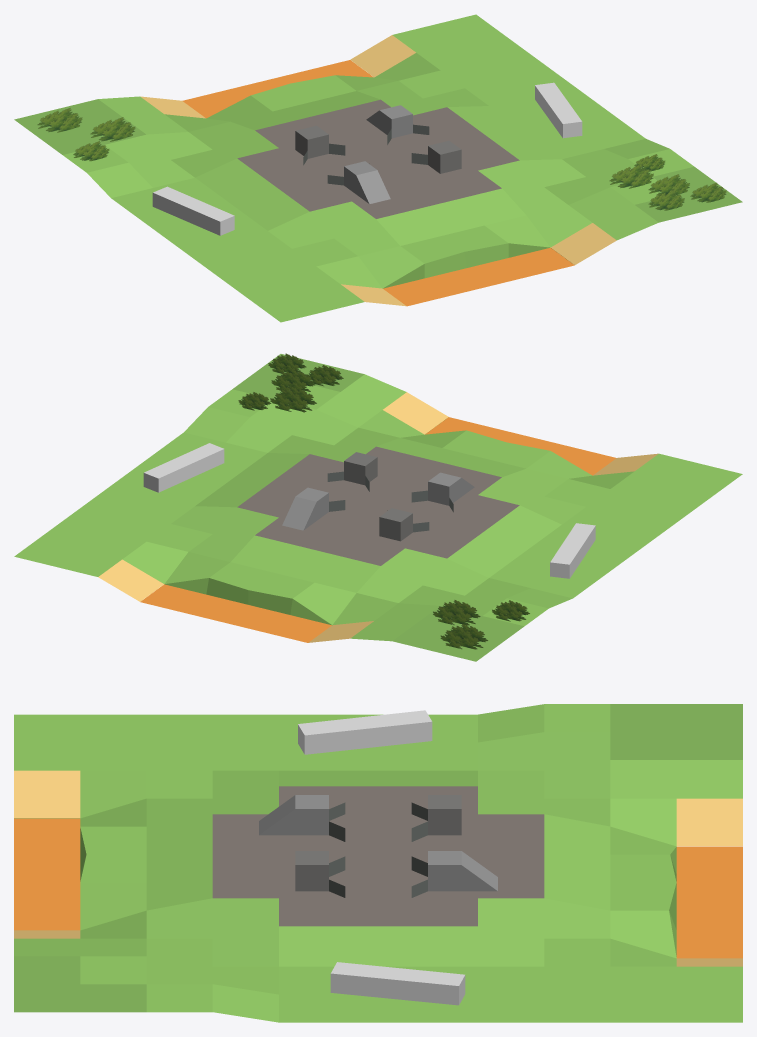
The model's file is TL_map_oldchool.glb.
3 views of the same model, one above another, from view 1: azimuth 30°, elevation 25°; view 2: azimuth 150°, elevation 25°; view 3: azimuth 270°, elevation 25° (orthographic). The views are drawn at different scales.
Visible parts, largest first — view 1: Plane, Cube, Cube.001; view 2: Plane, Cube.001, Cube; view 3: Plane, Cube.001, Cube.
Boxes of the visible parts, left/top/right/bottom form: Plane: left=14, top=14, right=742, bottom=322; Cube: left=152, top=186, right=234, bottom=235; Cube.001: left=535, top=82, right=582, bottom=138; Plane: left=14, top=354, right=742, bottom=661; Cube.001: left=143, top=443, right=224, bottom=492; Cube: left=550, top=523, right=595, bottom=578; Plane: left=14, top=704, right=742, bottom=1022; Cube.001: left=330, top=962, right=465, bottom=1005; Cube: left=298, top=710, right=432, bottom=754.
Bounding box in the file's own units: 2 × 0.1777 × 2.
2 materials, 2 textured.
